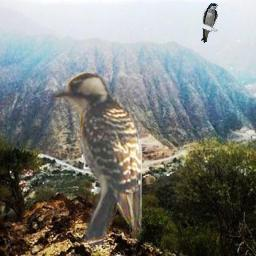Swallow: (201, 3, 218, 43)
Woodpecker: (49, 71, 142, 245)
